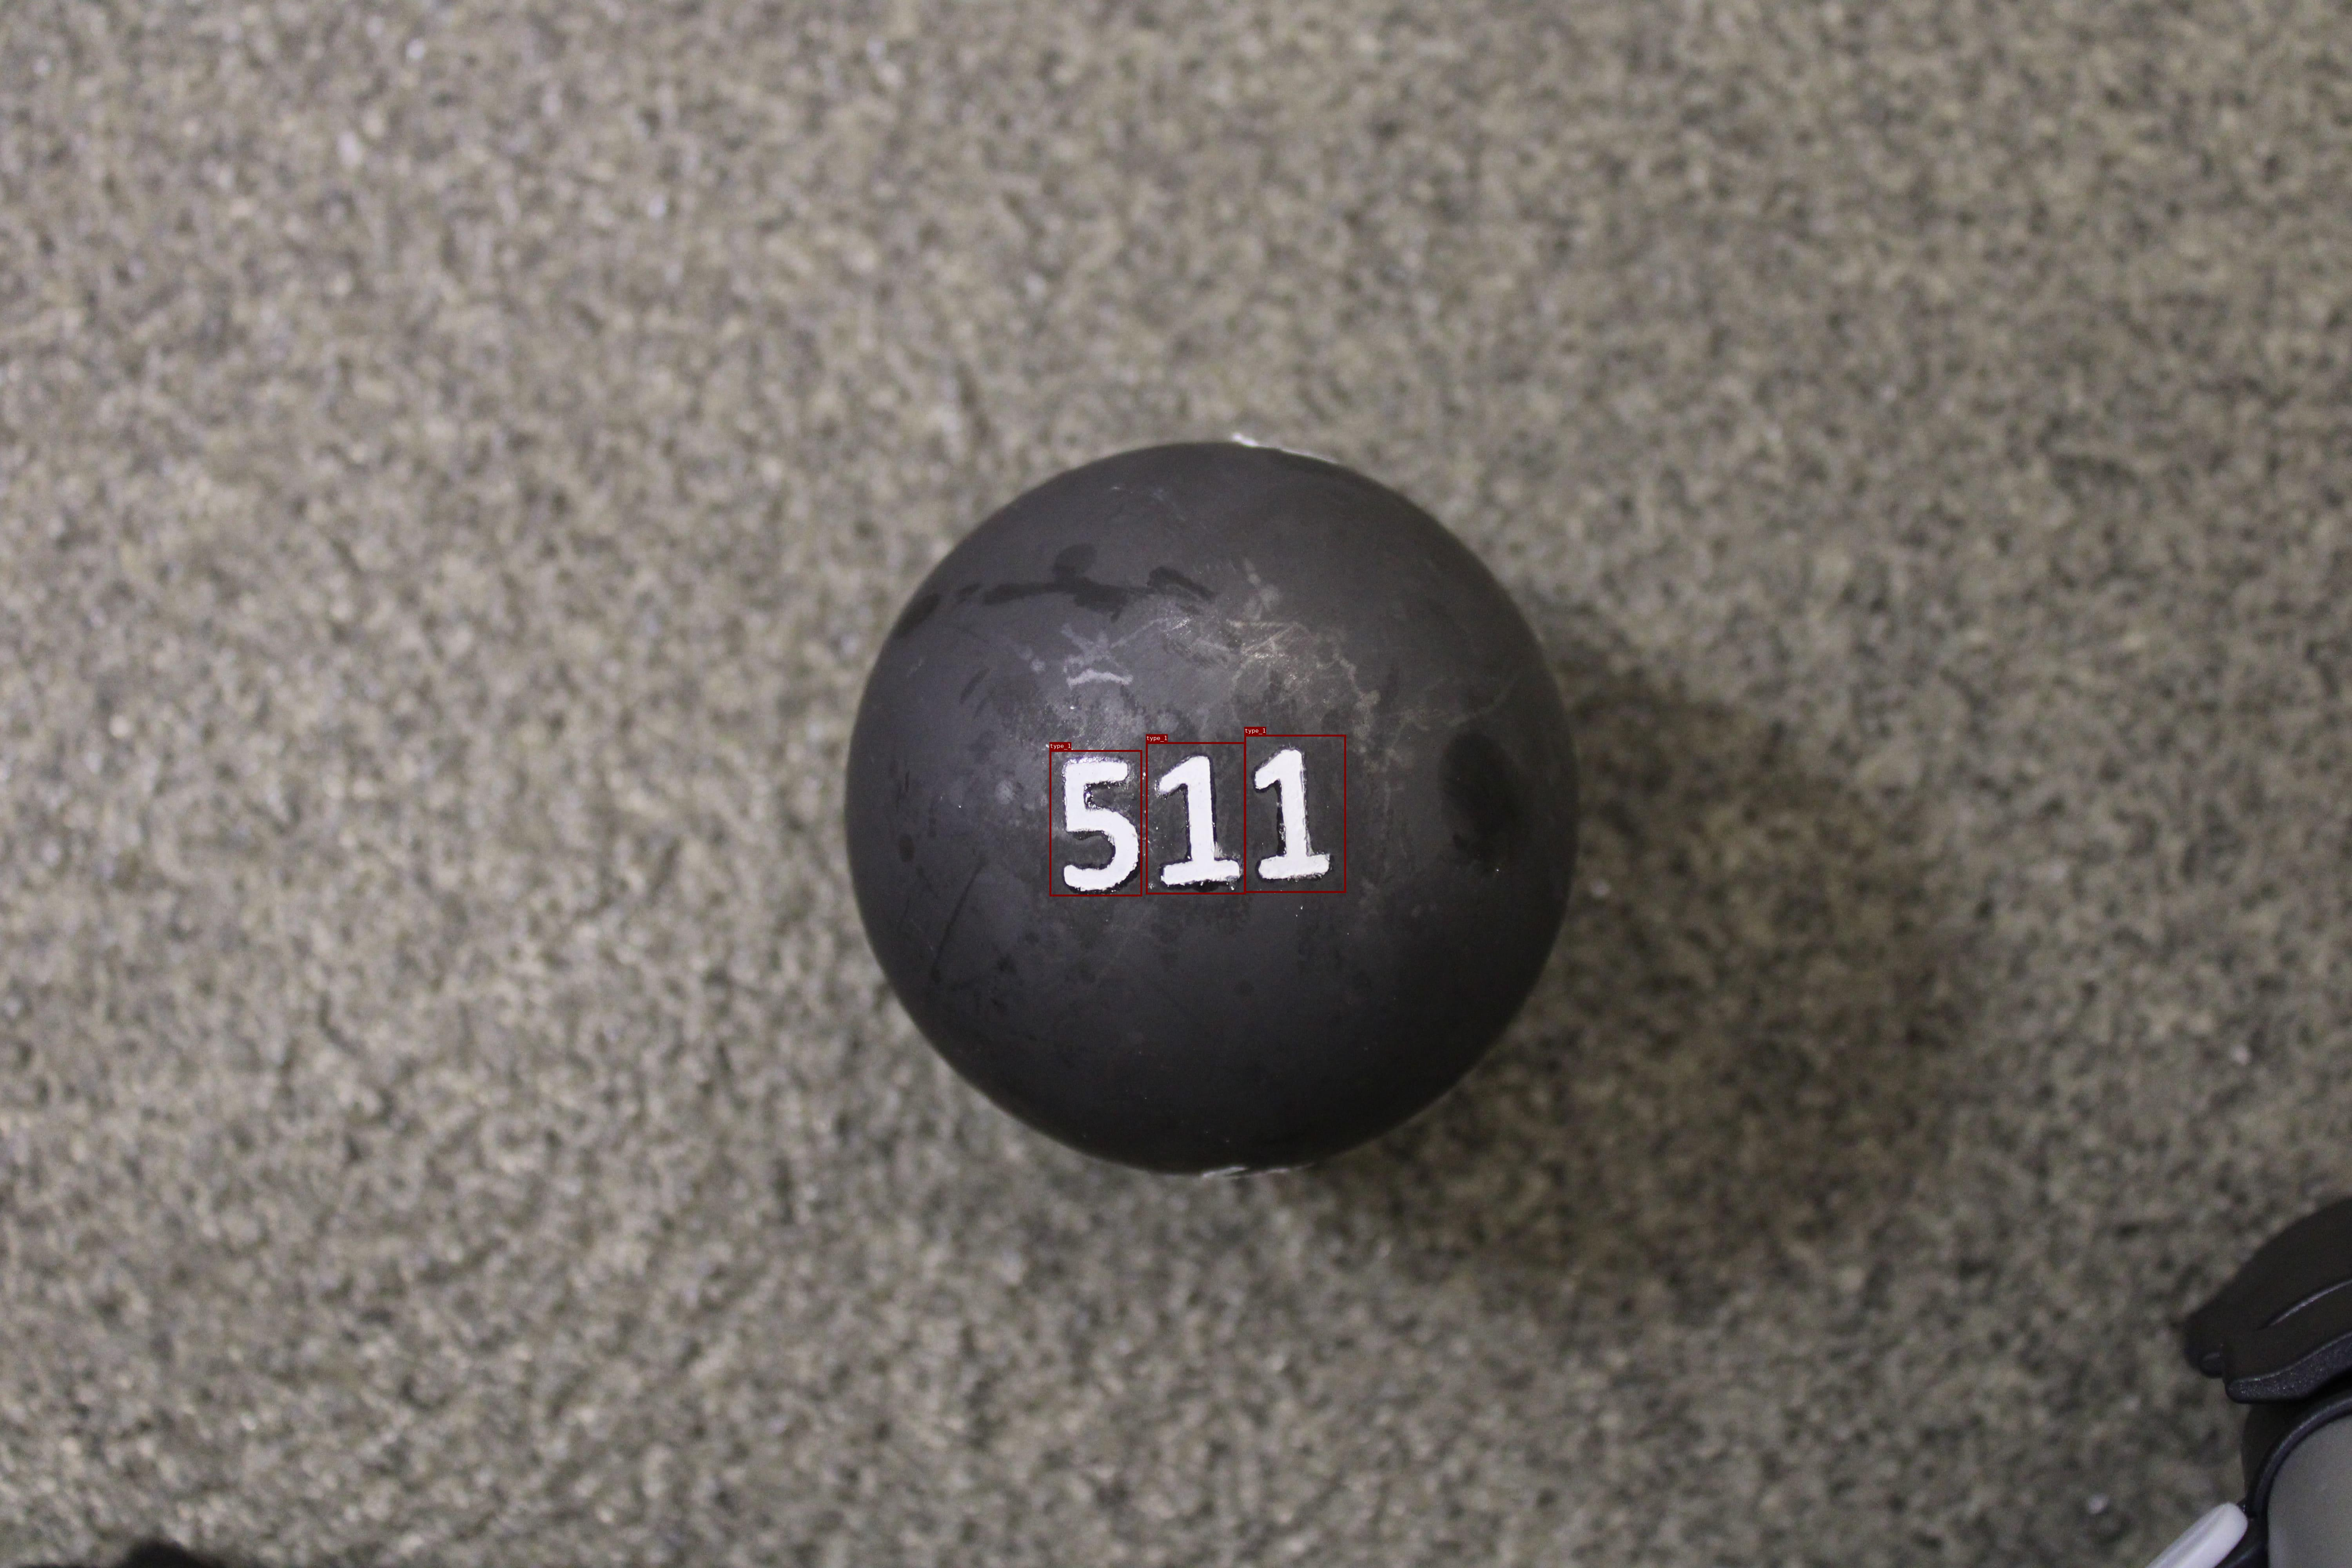type_1: (1244, 735, 1346, 892), (1146, 742, 1246, 894), (1050, 751, 1143, 896)
